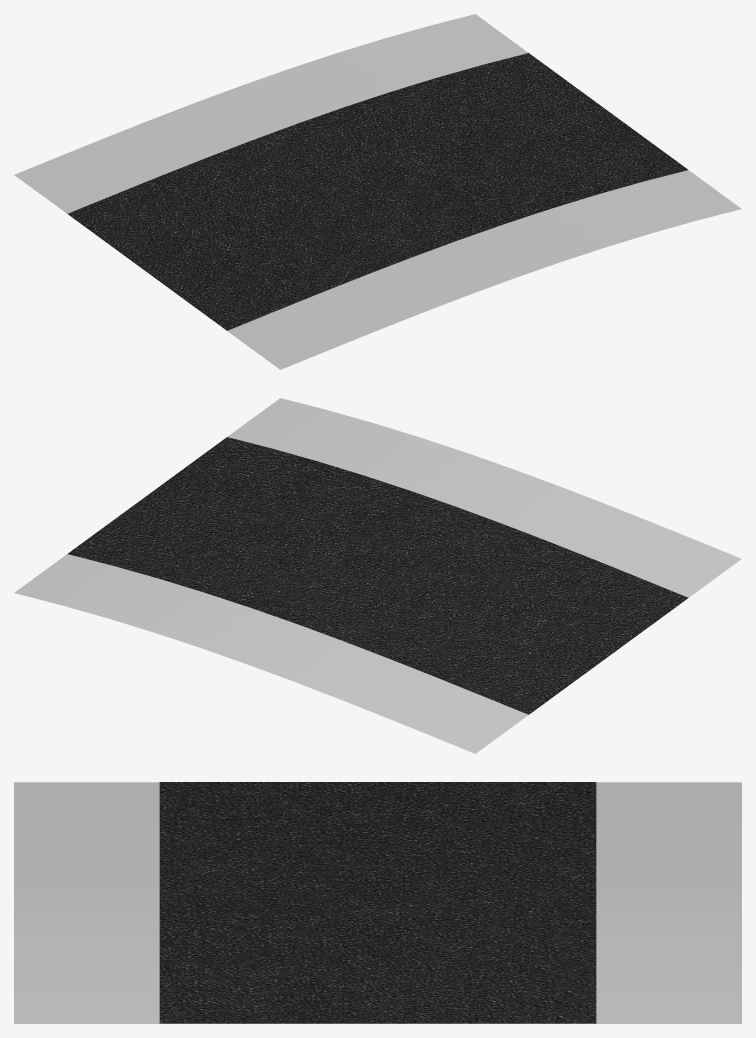
Rendered from track_ramp_flat_down.obj.
3 renders of one model, top to bottom at view 1: azimuth 30°, elevation 25°; view 2: azimuth 150°, elevation 25°; view 3: azimuth 270°, elevation 25°, orthographic. The views are drawn at different scales.
Visible parts, largest first — view 1: Road_Plane.002, Grass_Plane.000; view 2: Road_Plane.002, Grass_Plane.000; view 3: Road_Plane.002, Grass_Plane.000.
Part boxes in pixels (x1=…): Road_Plane.002: x1=67, y1=53, x2=687, y2=330; Grass_Plane.000: x1=14, y1=14, x2=741, y2=369; Road_Plane.002: x1=68, y1=437, x2=688, y2=714; Grass_Plane.000: x1=14, y1=398, x2=741, y2=753; Road_Plane.002: x1=159, y1=782, x2=596, y2=1023; Grass_Plane.000: x1=14, y1=782, x2=741, y2=1023.
Bounding box in the file's own units: 10 × 1 × 10.
